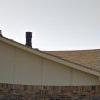Chimney: (15, 25, 39, 52)
